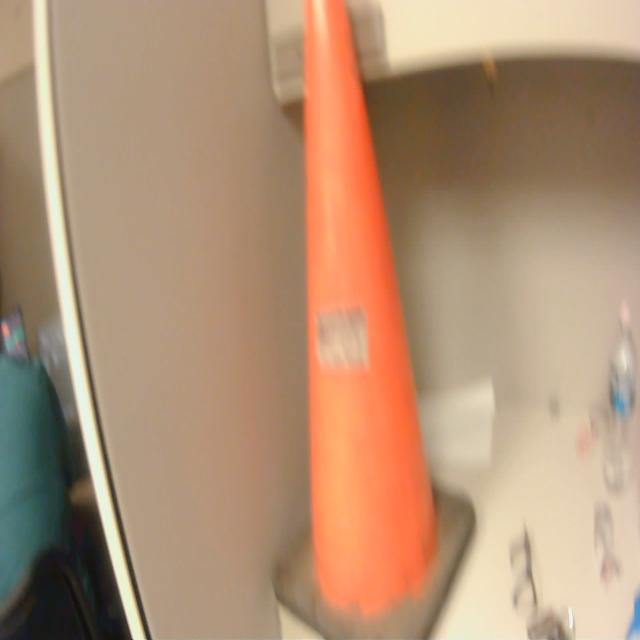traffic cone: (267, 1, 482, 640)
